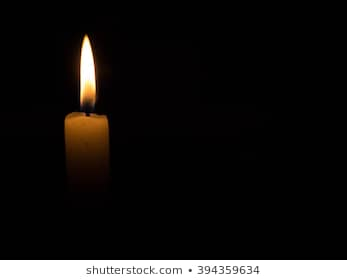Fire: (79, 35, 100, 104)
